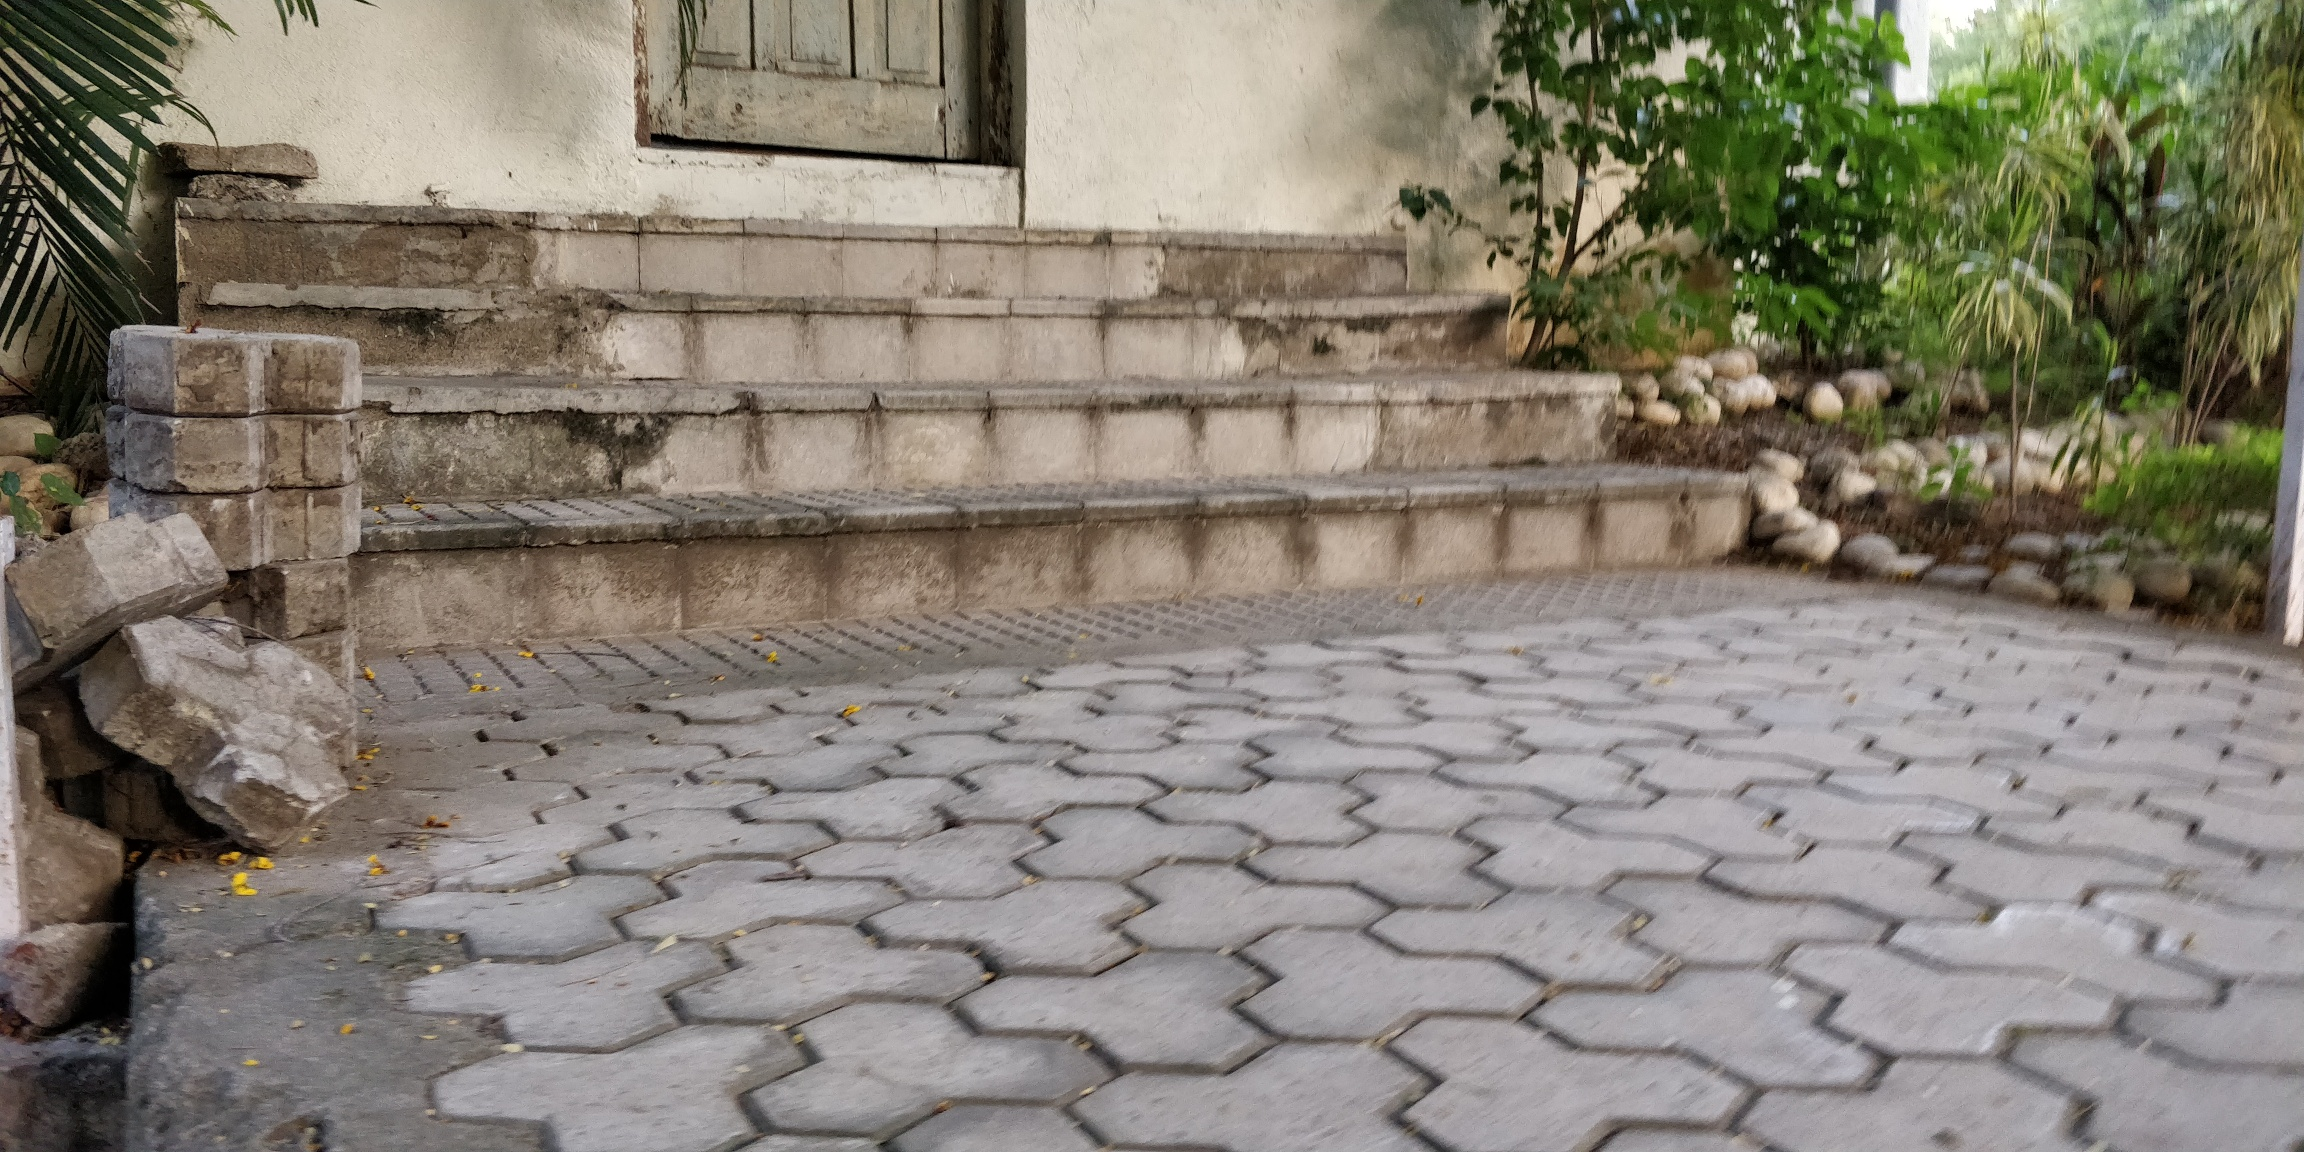stairs_up: (248, 198, 1722, 617)
